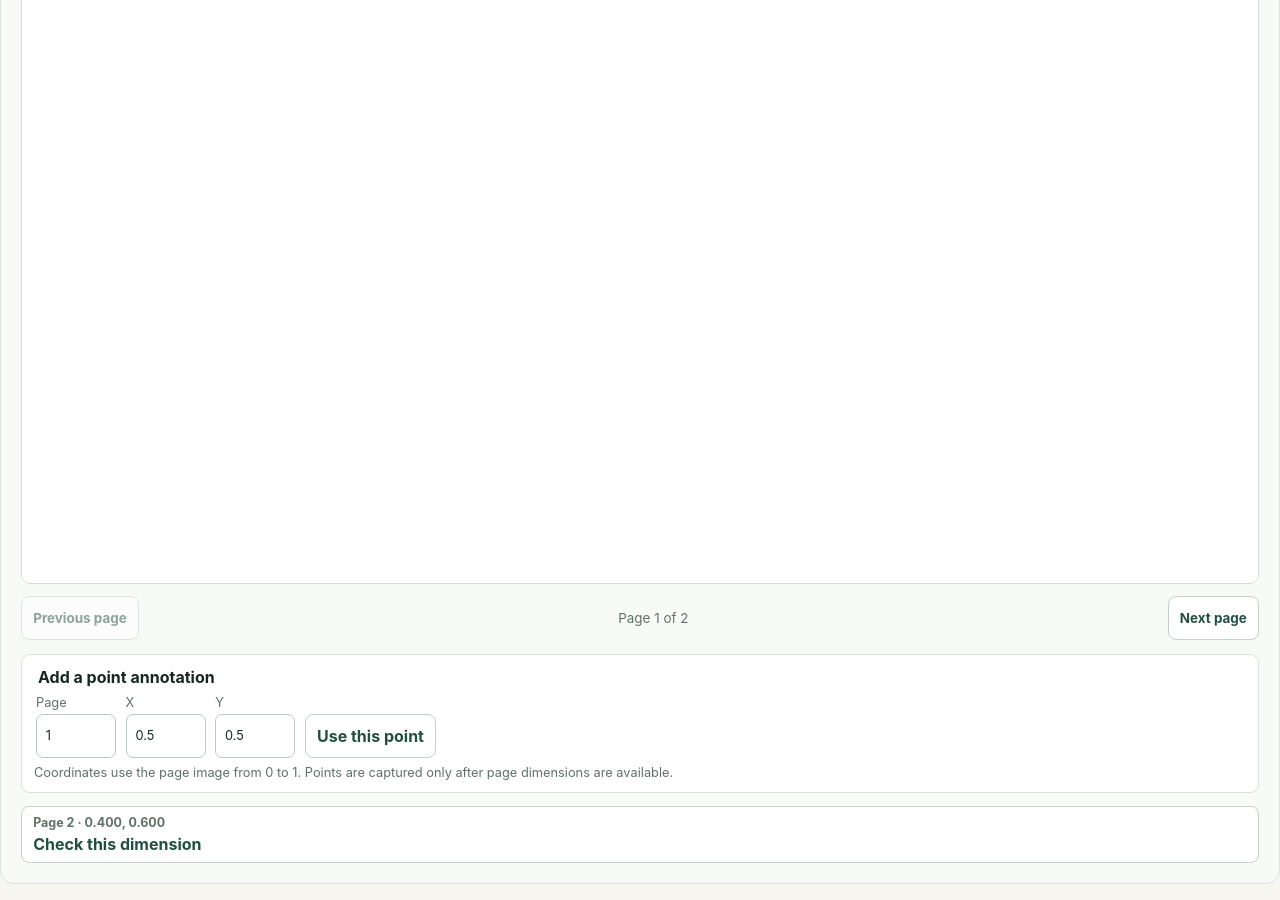
Test: ReviewEvidence › keeps page navigation within PDF bounds and labels historical points by page
(page scrolled)
Click the button "Next page" at (1213, 618), box x1=1168 y1=596 x2=1259 y2=640
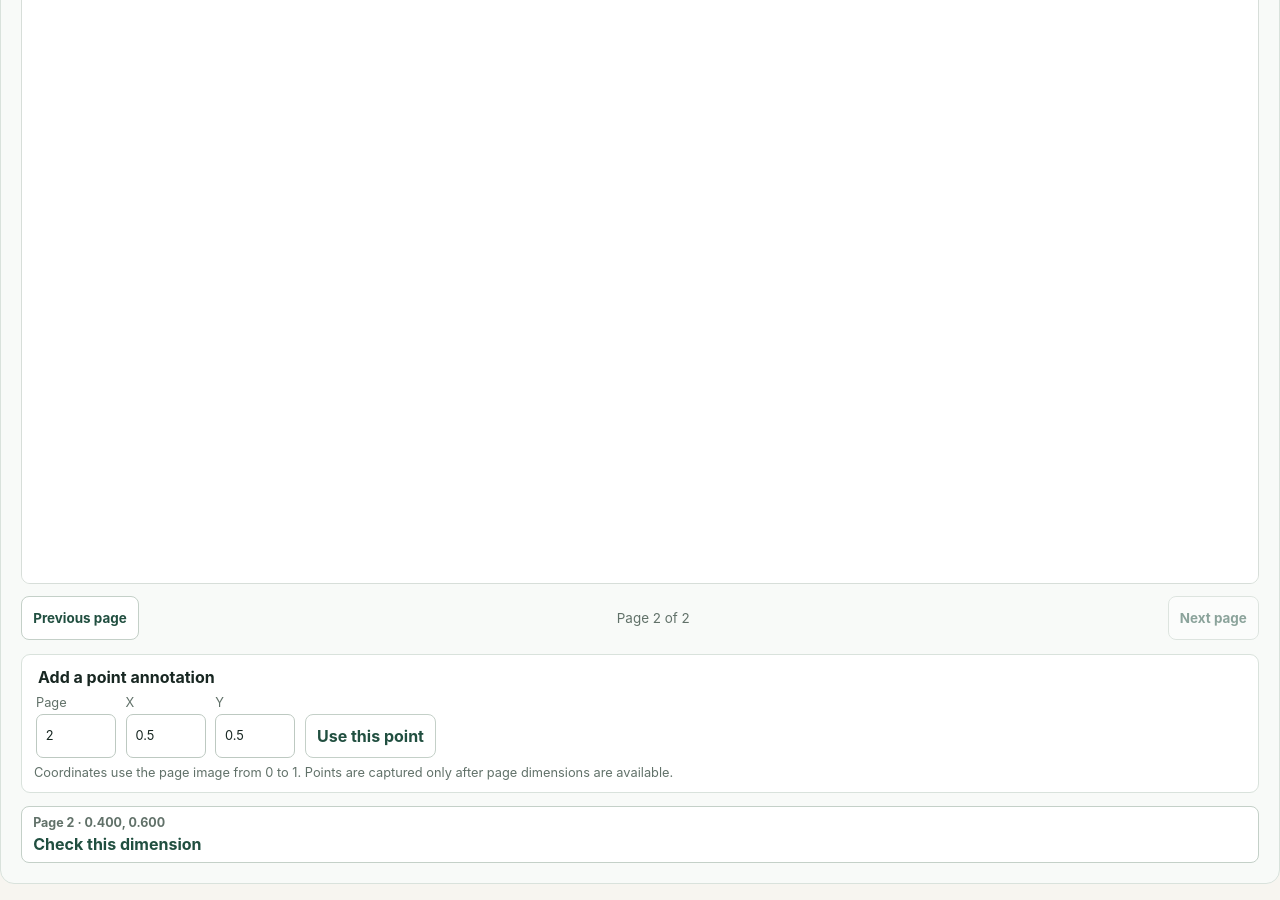
Expected: the text "Check this dimension" is shown, x1=33 y1=834 x2=202 y2=854
Now the button "Next page" is disabled, box x1=1168 y1=596 x2=1259 y2=640
